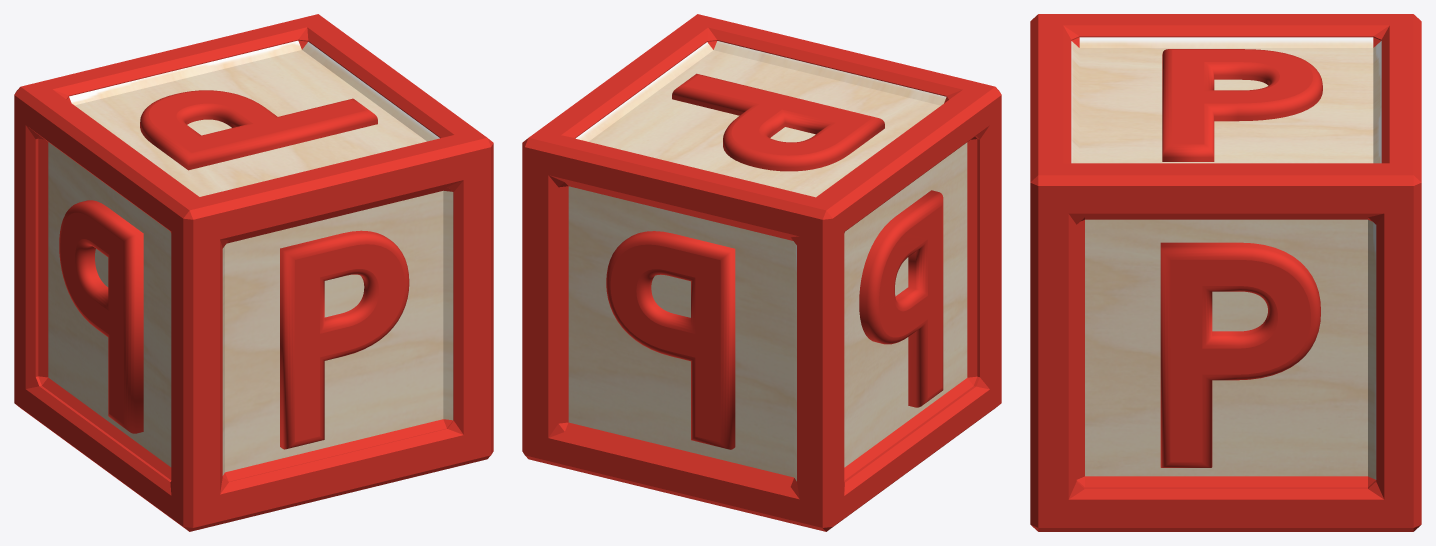
The model's file is block_P.fbx.
3 renders of one model, left to right at view 1: azimuth 30°, elevation 25°; view 2: azimuth 150°, elevation 25°; view 3: azimuth 270°, elevation 25°, orthographic. The views are drawn at different scales.
Visible parts, largest first — view 1: Cube, text_P.001, text_P.002, text_P; view 2: Cube, text_P.001, text_P.002, text_P; view 3: Cube, text_P.002, text_P.
Boxes of the visible parts, <box> form: Cube: <box>14,14,493,531</box>; text_P.001: <box>280,230,409,449</box>; text_P.002: <box>59,200,143,433</box>; text_P: <box>140,90,377,170</box>; Cube: <box>522,14,1001,531</box>; text_P.001: <box>606,231,735,449</box>; text_P.002: <box>859,190,943,407</box>; text_P: <box>672,73,884,171</box>; Cube: <box>1030,14,1421,531</box>; text_P.002: <box>1160,242,1320,467</box>; text_P: <box>1162,49,1322,161</box>.
Bounding box in the file's own units: 2032 × 2011 × 2000.
4 materials, 1 textured.
